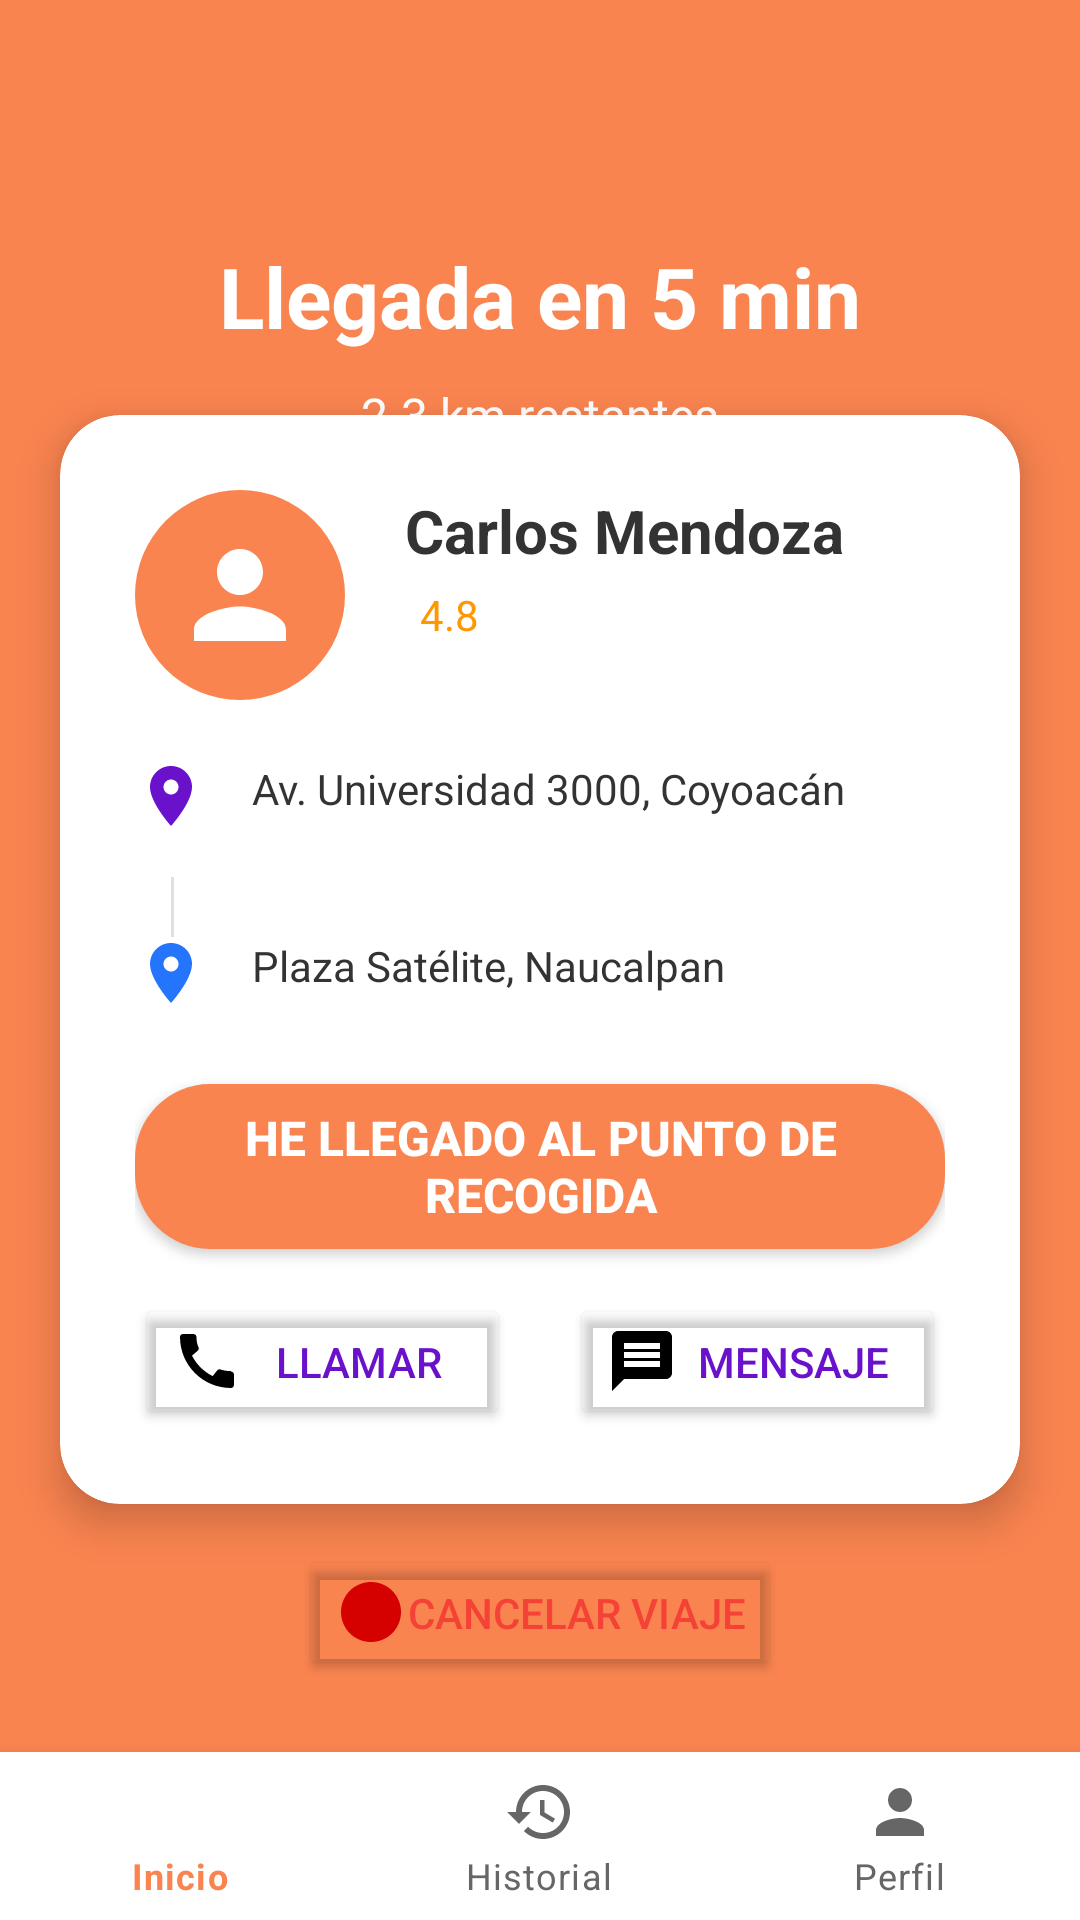

Named icons in this screenshot (1080x1920) and their bounding boxes, (x1, y1, x2, y2):
destination: (150, 943, 192, 1003)
pickup: (150, 766, 192, 826)
